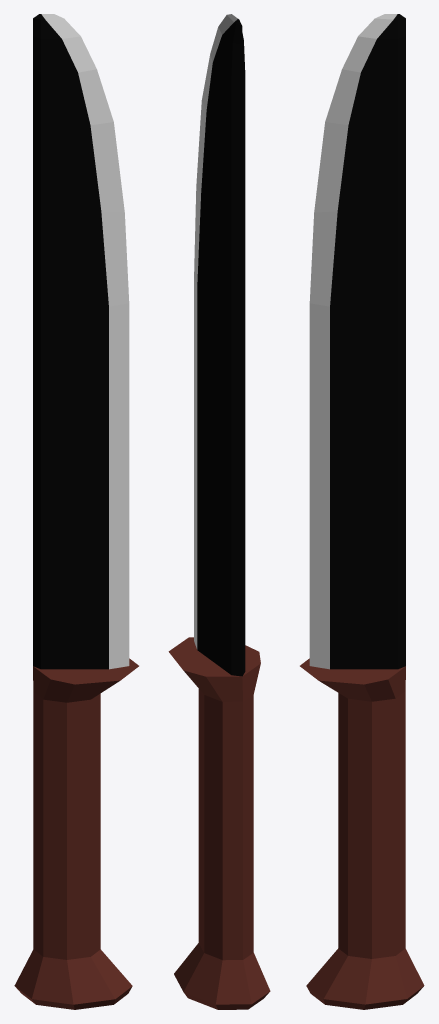
Rendered from Long black knife.fbx.
The picture shows the model from 3 angles, left to right: view 1: azimuth 90°, elevation 25°; view 2: azimuth 210°, elevation 25°; view 3: azimuth 270°, elevation 25°; orthographic projection.
Parts seen in each view (by area): view 1: Cylinder; view 2: Cylinder; view 3: Cylinder.
Boxes of the visible parts, x1,y1,x2,y2 form: Cylinder: (14,14,138,1009); Cylinder: (168,14,270,1009); Cylinder: (300,14,424,1009).
Bounding box in the file's own units: 105 × 1276 × 148.
